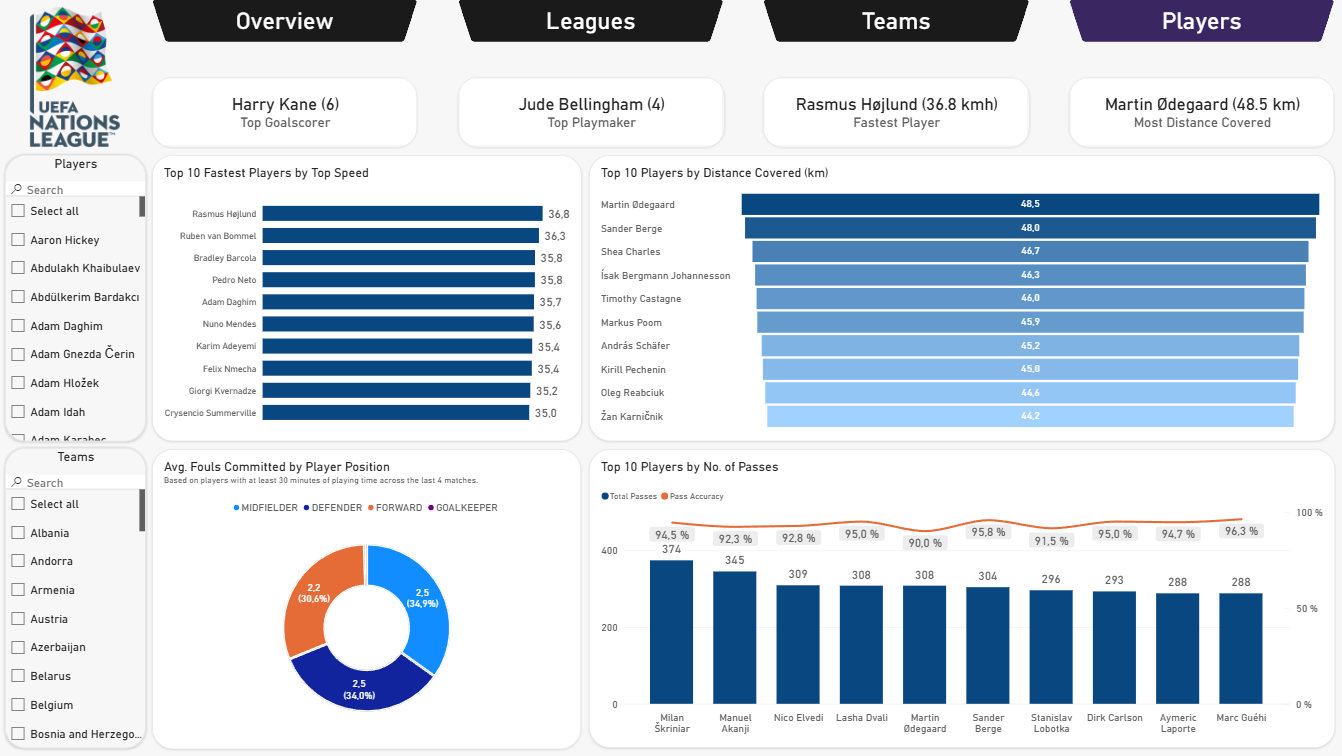

The dashboard page shown, as its layout file describes it:
{"tool":"powerbi","page":{"name":"Players","canvas":[1920,1080],"ordinal":3},"visuals":[{"type":"image","box":[10,10,200,200],"z":0},{"type":"cardVisual","fields":{"Data":["calculations.players_top_goalscorer"]},"box":[220.3,109.4,379.3,100.7],"z":1000},{"type":"cardVisual","fields":{"Data":["calculations.players_top_assistent"]},"box":[656.5,109.4,380.8,100.7],"z":2000},{"type":"cardVisual","fields":{"Data":["calculations.players_fastest_player"]},"box":[1092.8,109.4,380.8,100.7],"z":3000},{"type":"cardVisual","fields":{"Data":["calculations.players_workhorse"]},"box":[1530.5,109.4,379.3,100.7],"z":4000},{"type":"slicer","title":"Teams","fields":{"Values":["dim_teams.team_name"]},"box":[9.6,640,200.5,429],"z":5000},{"type":"actionButton","box":[220,0,379.3,59.8],"z":6000},{"type":"actionButton","box":[1093.3,0,380.8,59.8],"z":7000},{"type":"actionButton","box":[1530,0,379.3,59.8],"z":8000},{"type":"actionButton","box":[656.7,0,379.3,59.8],"z":9000},{"type":"clusteredBarChart","title":"Top 10 Fastest Players by Top Speed","fields":{"Category":["players_summary.player_name"],"Y":["calculations.top_speed"]},"box":[219.7,221.4,614,408.7],"z":10000},{"type":"slicer","title":"Players","fields":{"Values":["players_summary.player_name"]},"box":[9.6,221.4,200.5,409],"z":11000},{"type":"lineClusteredColumnComboChart","title":"Top 10 Players by No. of Passes","fields":{"Y":["calculations.players_total_passes"],"Y2":["calculations.players_pass_accuracy"],"Category":["players_summary.player_name"]},"box":[843.9,641,1066,427.3],"z":12000},{"type":"donutChart","title":"Avg. Fouls Committed by Player Position","fields":{"Category":["players_summary.position"],"Y":["calculations.players_avg_fouls_commited"]},"box":[219.8,641,613.4,428.9],"z":13000},{"type":"funnel","title":"Top 10 Players by Distance Covered (km)","fields":{"Category":["players_summary.player_name"],"Y":["calculations.players_avg_distance_covered"]},"box":[843.9,221.4,1065.3,408.9],"z":14000}]}

Visuals, with their boxes on the page's 1920x1080 design canvas (x1, y1, x2, y2). These are canvas units, not pixel positions in the 1342x756 screenshot, which may show the page scaled, cropped or inside an application window:
image: bbox=[10, 10, 210, 210]
cardVisual - calculations.players_top_goalscorer: bbox=[220, 109, 600, 210]
cardVisual - calculations.players_top_assistent: bbox=[656, 109, 1037, 210]
cardVisual - calculations.players_fastest_player: bbox=[1093, 109, 1474, 210]
cardVisual - calculations.players_workhorse: bbox=[1530, 109, 1910, 210]
"Teams" slicer: bbox=[10, 640, 210, 1069]
actionButton: bbox=[220, 0, 599, 60]
actionButton: bbox=[1093, 0, 1474, 60]
actionButton: bbox=[1530, 0, 1909, 60]
actionButton: bbox=[657, 0, 1036, 60]
"Top 10 Fastest Players by Top Speed" clusteredBarChart: bbox=[220, 221, 834, 630]
"Players" slicer: bbox=[10, 221, 210, 630]
"Top 10 Players by No. of Passes" lineClusteredColumnComboChart: bbox=[844, 641, 1910, 1068]
"Avg. Fouls Committed by Player Position" donutChart: bbox=[220, 641, 833, 1070]
"Top 10 Players by Distance Covered (km)" funnel: bbox=[844, 221, 1909, 630]
